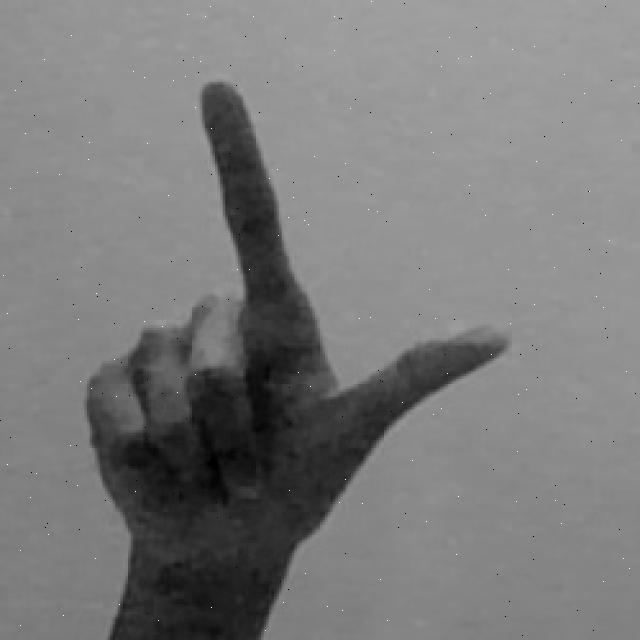L: (82, 71, 512, 640)
